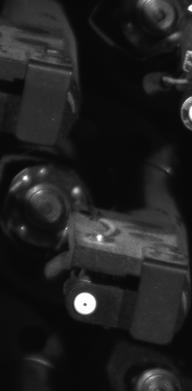fiber: (70, 289, 102, 320)
